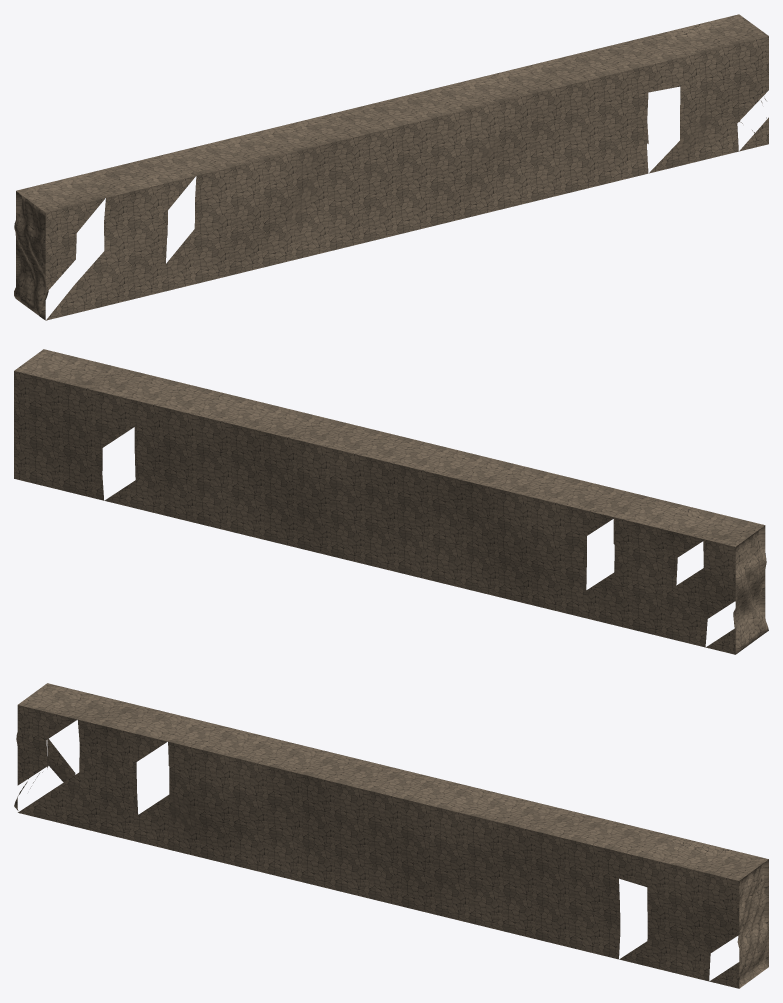
File: cliff_ns.glb
3 renders of one model, top to bottom at view 1: azimuth 30°, elevation 25°; view 2: azimuth 150°, elevation 25°; view 3: azimuth 330°, elevation 25°, orthographic.
Visible parts, largest first — view 1: cliff_ns; view 2: cliff_ns; view 3: cliff_ns.
Part boxes in pixels (x1,y1,x2,y2): cliff_ns: (14,14,768,320); cliff_ns: (14,349,768,654); cliff_ns: (14,683,768,988).
Size of the model in its own units: 56.51 by 8.18 by 4.64.
1 material, 1 textured.
